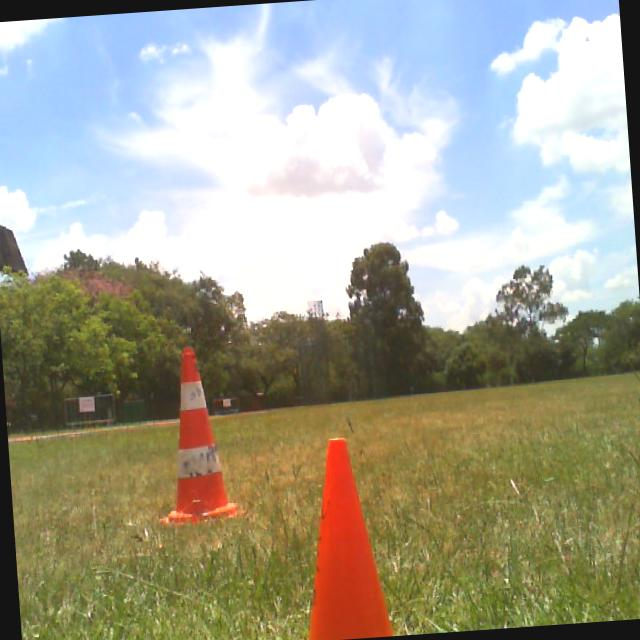cone: (294, 434, 394, 640), (148, 345, 248, 524)
